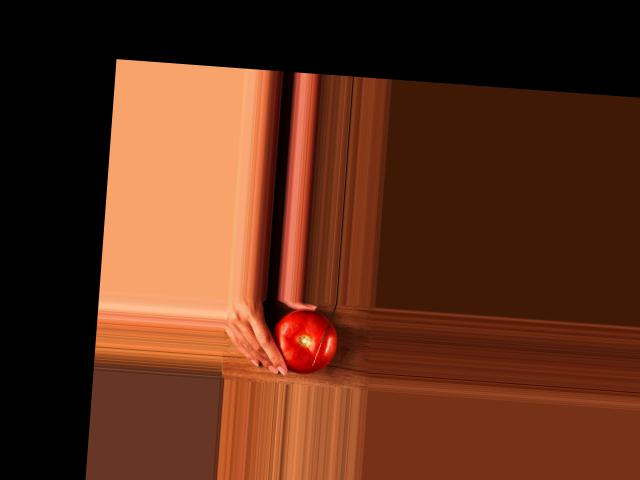tomato: (270, 307, 338, 375)
